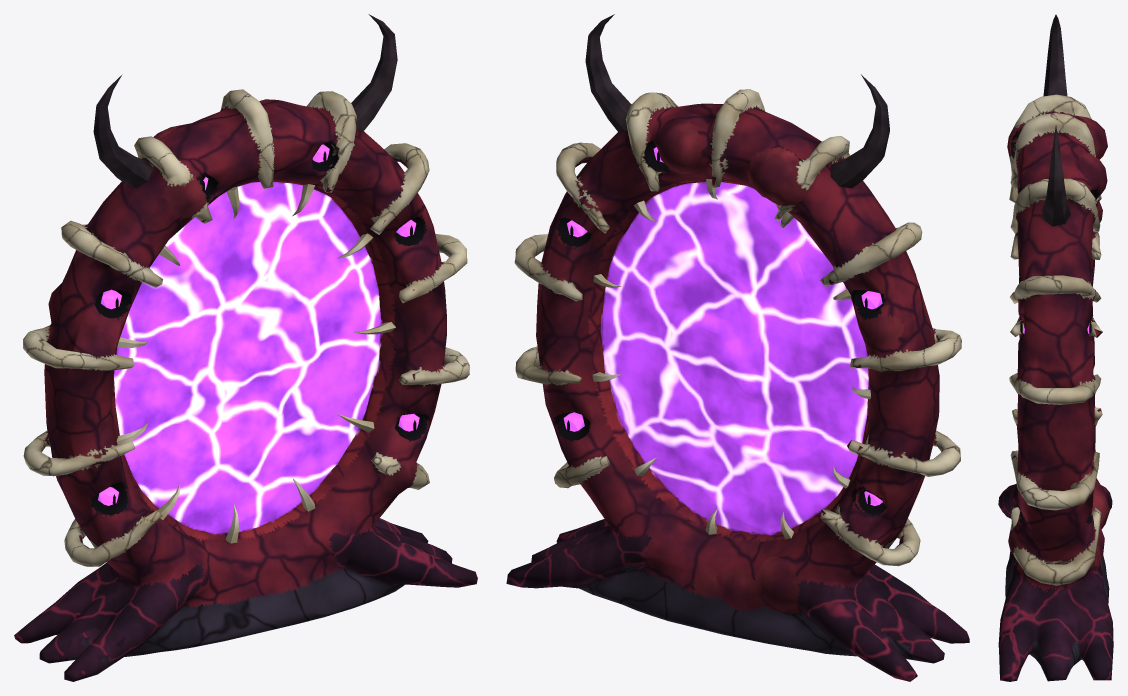
The model's file is portal_monstruo.fbx.
3 renders of one model, left to right at view 1: azimuth 30°, elevation 25°; view 2: azimuth 150°, elevation 25°; view 3: azimuth 270°, elevation 25°, orthographic. The views are drawn at different scales.
Visible parts, largest first — view 1: portal, energia_neon, ojos_neon; view 2: portal, energia_neon, ojos_neon; view 3: portal.
Part boxes in pixels (<box>): portal: <box>14,14,477,681</box>; energia_neon: <box>114,181,381,534</box>; ojos_neon: <box>98,144,419,505</box>; portal: <box>506,14,969,681</box>; energia_neon: <box>601,182,868,534</box>; ojos_neon: <box>563,147,882,505</box>; portal: <box>998,14,1113,681</box>.
Bounding box in the file's own units: 8.01 × 10 × 2.
Materials: 1 (1 with a texture image).
